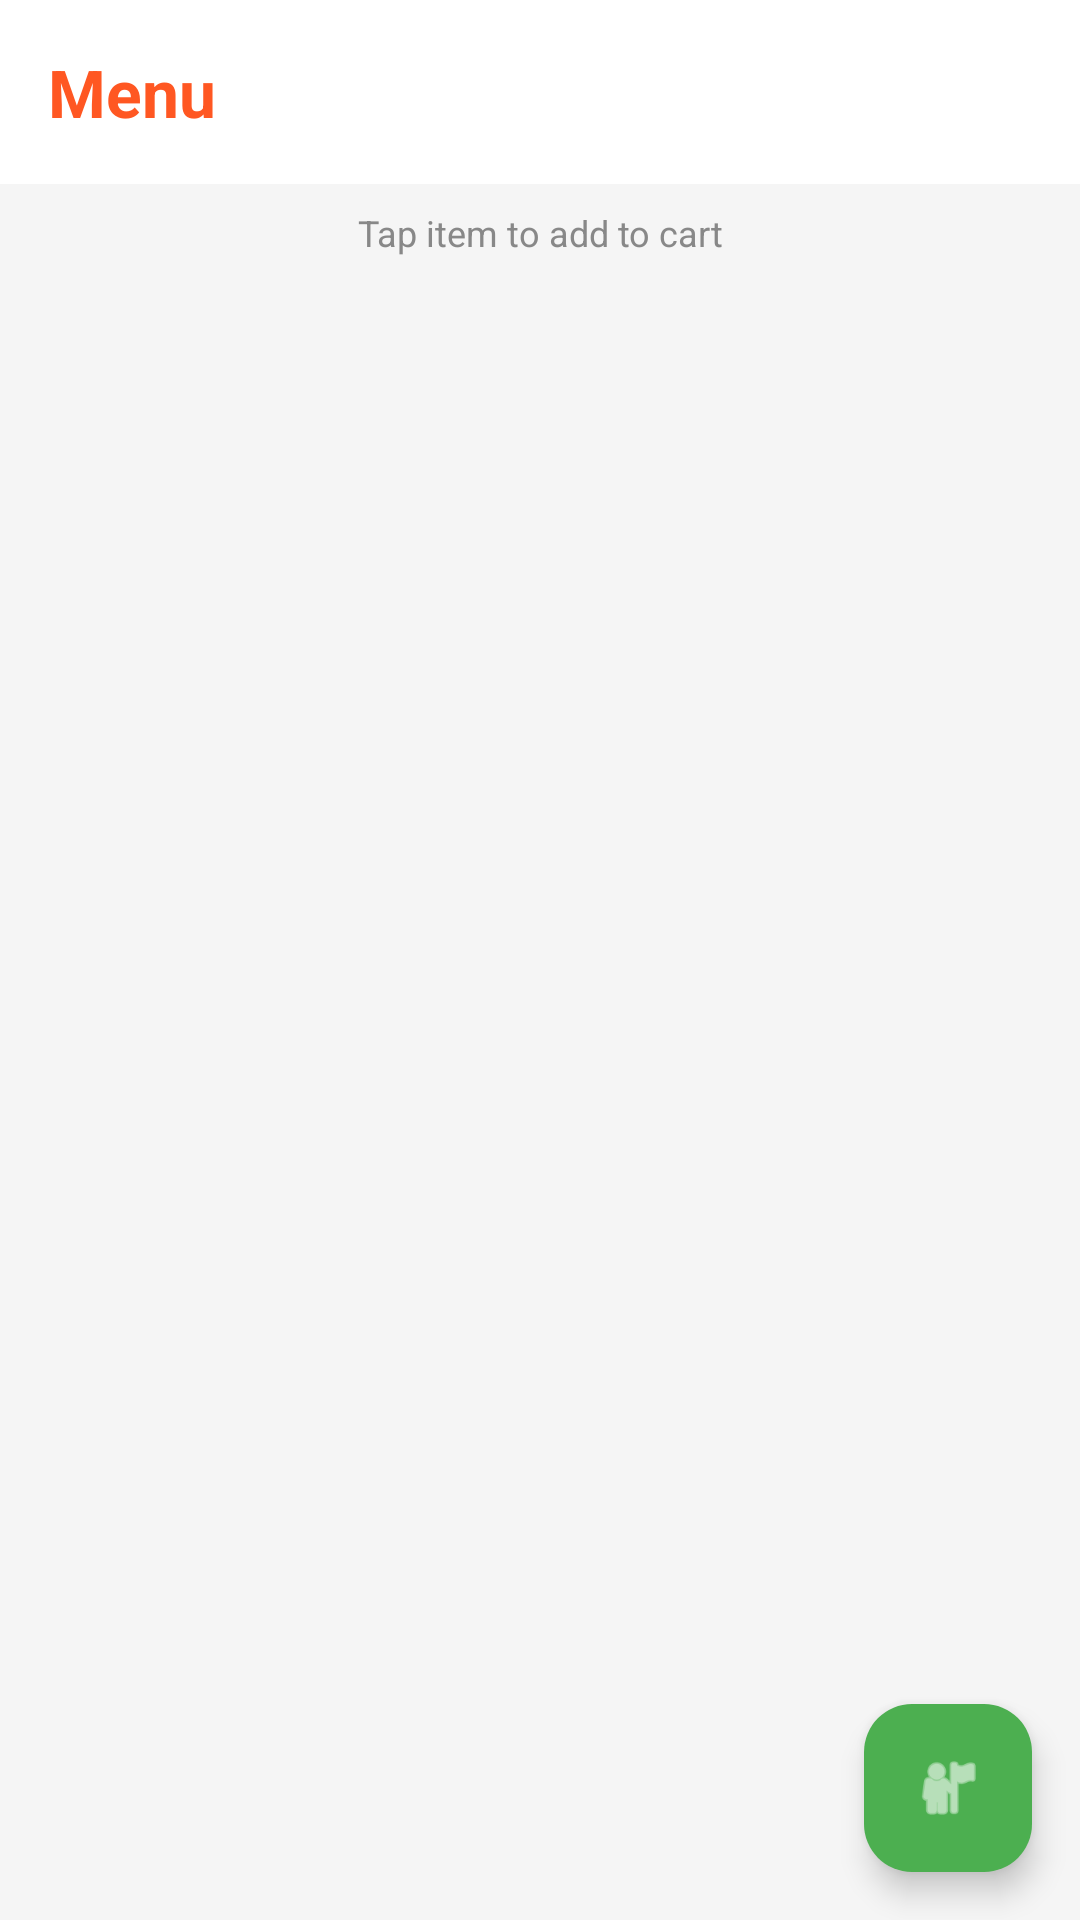

Icons on this 1080*1920 Android screen, each with the point to tap as (x,y):
myplaces: (948,1788)
